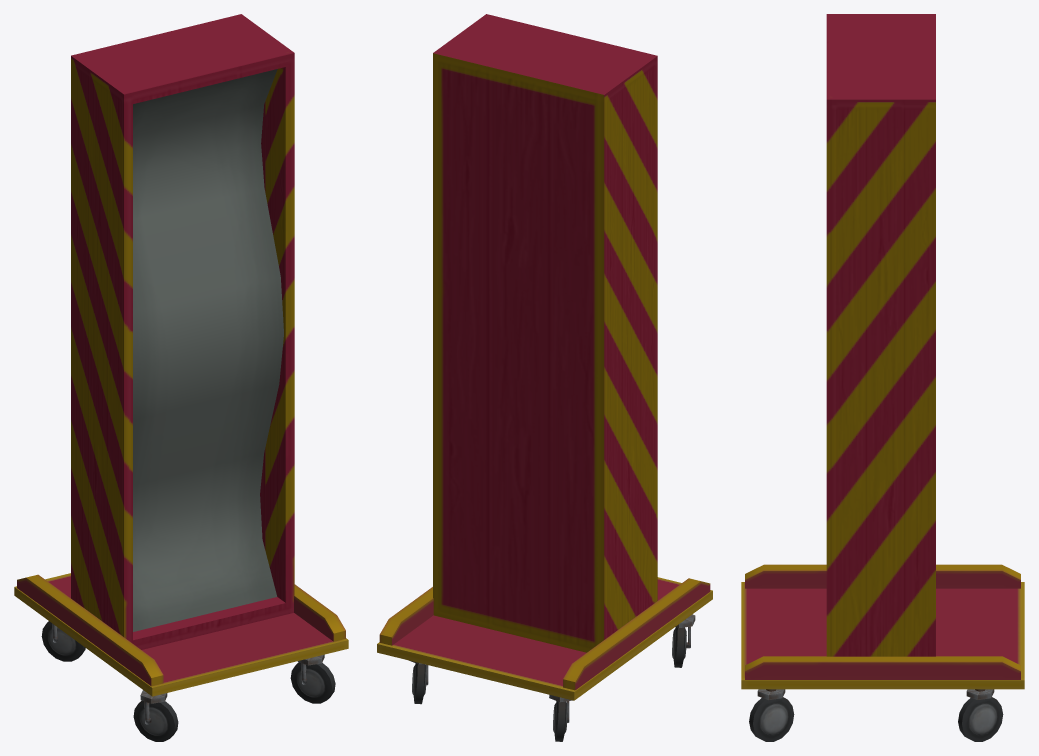
File: CrazyMirror_PinkYellow_Scaled.fbx
3 views of the same model, side by side, from view 1: azimuth 30°, elevation 25°; view 2: azimuth 150°, elevation 25°; view 3: azimuth 270°, elevation 25° (orthographic). The views are drawn at different scales.
Visible parts, largest first — view 1: Mirror, MainFrame1, BottomA, BottomB, BottomB1, WheelB1, WheelB4, WheelB2; view 2: MainFrame1, BottomA, BottomB, BottomB1; view 3: MainFrame1, BottomA, BottomB1, BottomB, WheelB1, WheelB3.
Boxes of the visible parts, <box> form: Mirror: <box>133,69,283,631</box>; MainFrame1: <box>71,14,294,649</box>; BottomA: <box>14,573,348,696</box>; BottomB: <box>17,574,163,686</box>; BottomB1: <box>294,584,345,641</box>; WheelB1: <box>290,662,335,703</box>; WheelB4: <box>133,700,178,741</box>; WheelB2: <box>41,621,85,661</box>; MainFrame1: <box>433,14,657,652</box>; BottomA: <box>377,577,712,700</box>; BottomB: <box>563,578,710,690</box>; BottomB1: <box>379,587,433,645</box>; MainFrame1: <box>826,14,935,656</box>; BottomA: <box>741,582,1024,689</box>; BottomB1: <box>745,656,1020,679</box>; BottomB: <box>745,564,1020,588</box>; WheelB1: <box>749,697,794,741</box>; WheelB3: <box>958,697,1003,741</box>.
Bounding box in the file's own units: 81.58 × 249 × 99.33.
